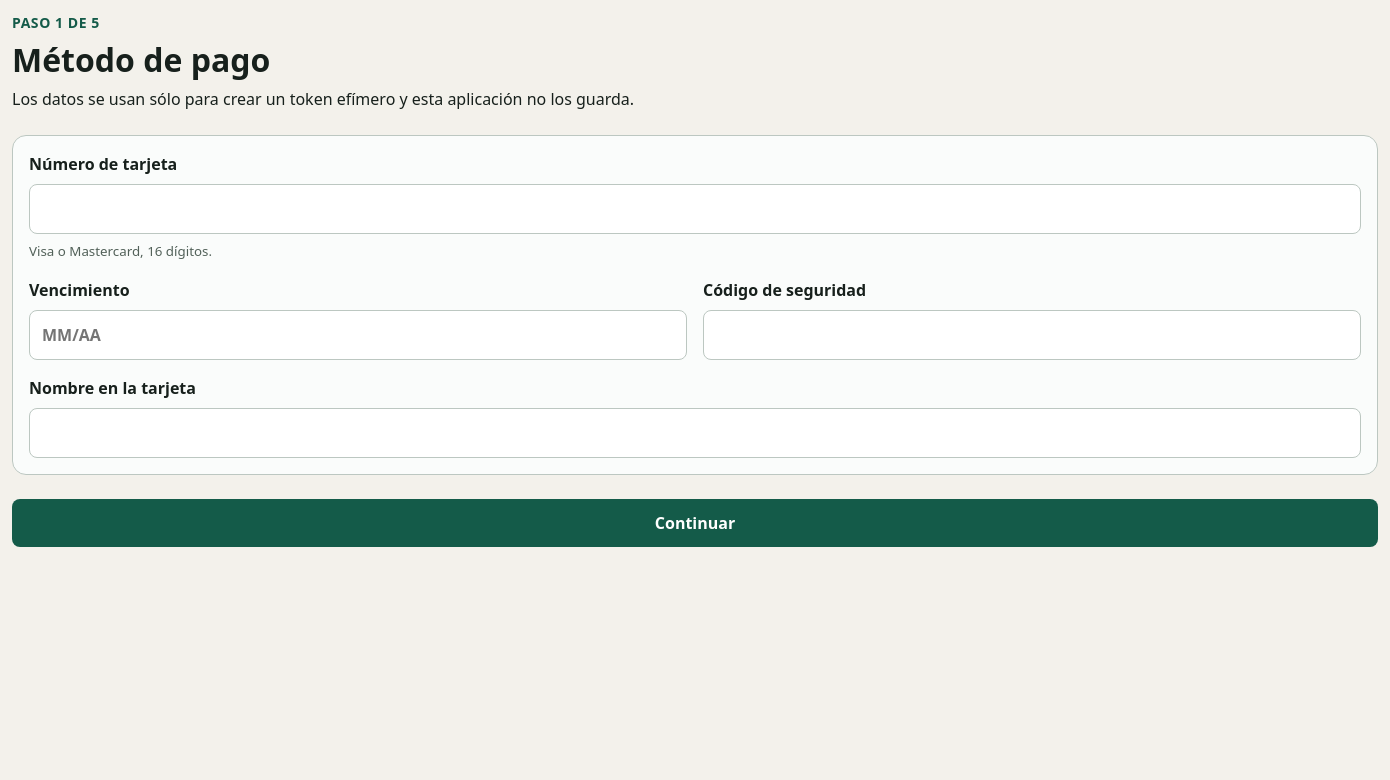
Test: CardStep › validates inline without exposing entered values in storage
What coordinates should you click on to do the following:
click the button "Continuar"
I would click on:
 (695, 523)
Its box is x1=12 y1=499 x2=1378 y2=547.
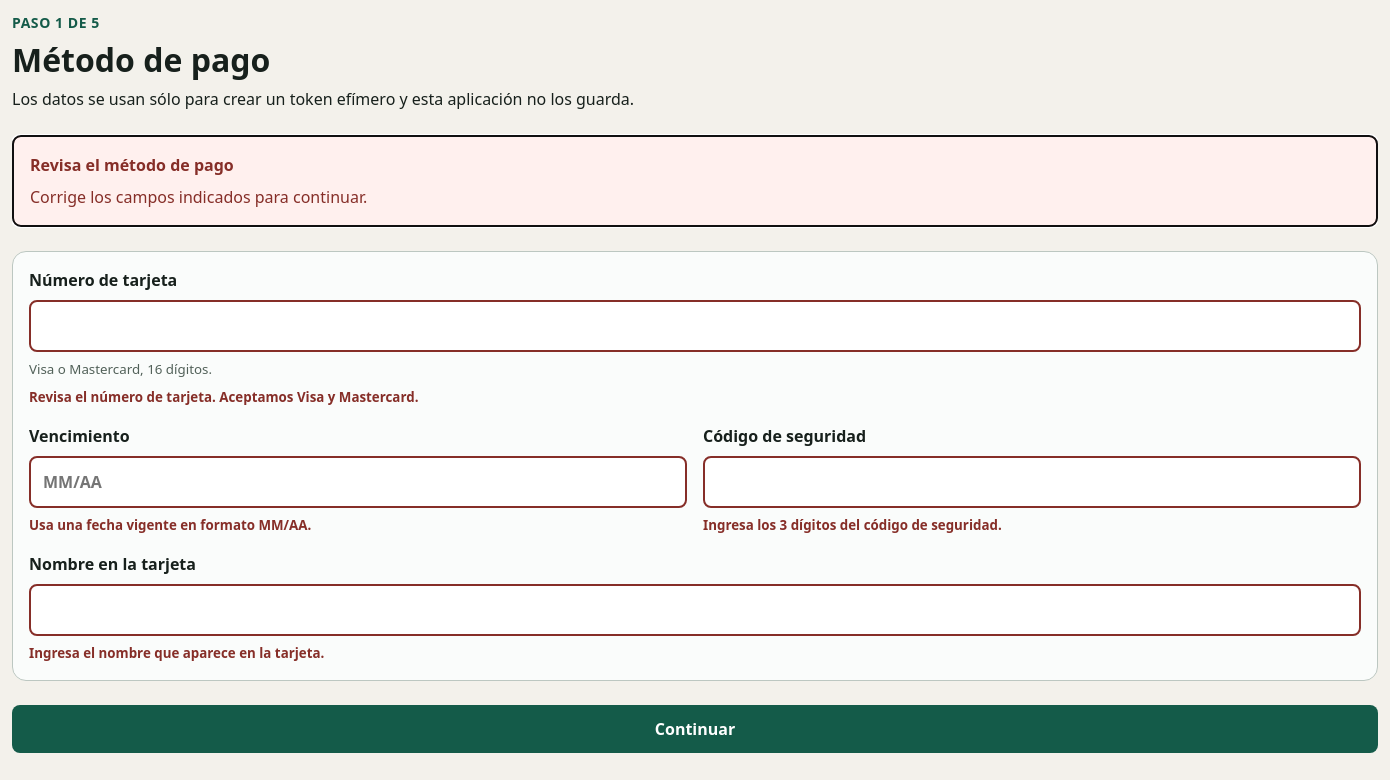
Result: the message shows "Corrige los campos" at x1=30 y1=186 x2=367 y2=208
